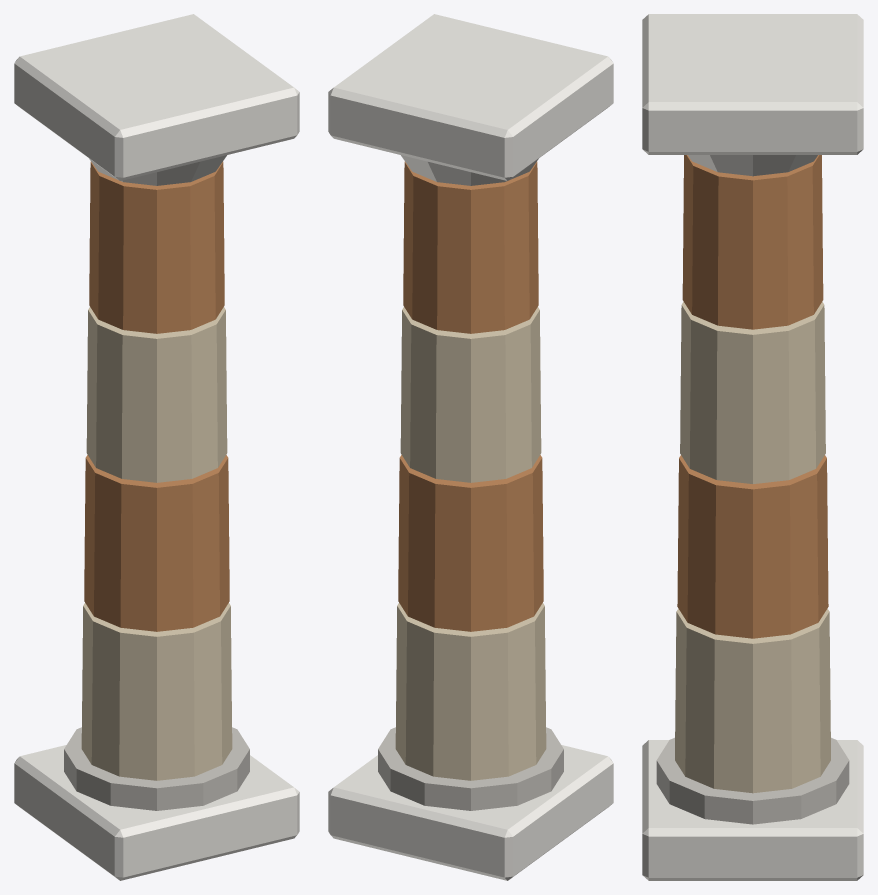
File: SM_AmphiColumn.fbx
3 views of the same model, side by side, from view 1: azimuth 30°, elevation 25°; view 2: azimuth 150°, elevation 25°; view 3: azimuth 270°, elevation 25° (orthographic). The views are drawn at different scales.
Parts seen in each view (by area): view 1: SM_AmphiColumn; view 2: SM_AmphiColumn; view 3: SM_AmphiColumn.
Boxes of the visible parts, left/top/right/bottom form: SM_AmphiColumn: left=14, top=14, right=299, bottom=880; SM_AmphiColumn: left=328, top=14, right=613, bottom=880; SM_AmphiColumn: left=642, top=14, right=863, bottom=880.
Size of the model in its own units: 1.7 by 1.7 by 6.6.
